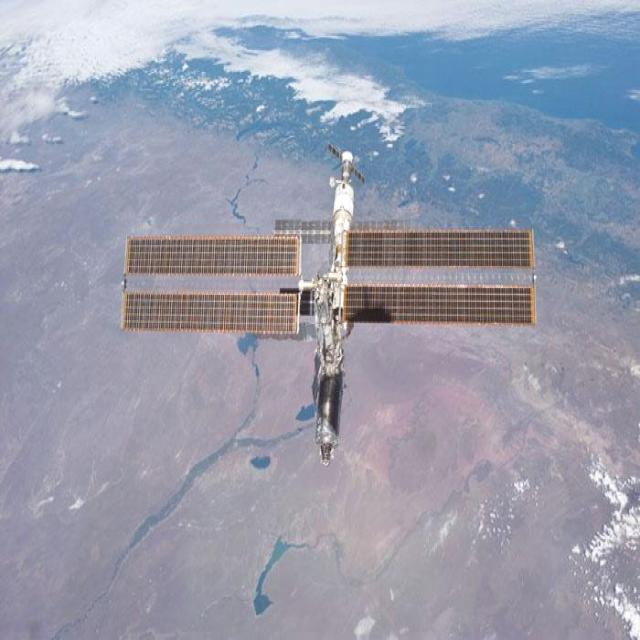medium_debris: (121, 146, 535, 463)
